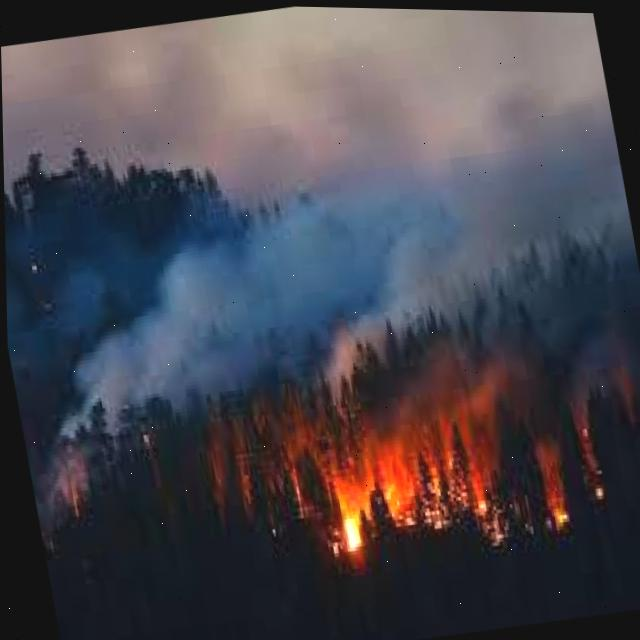smoke: (1, 6, 640, 501)
